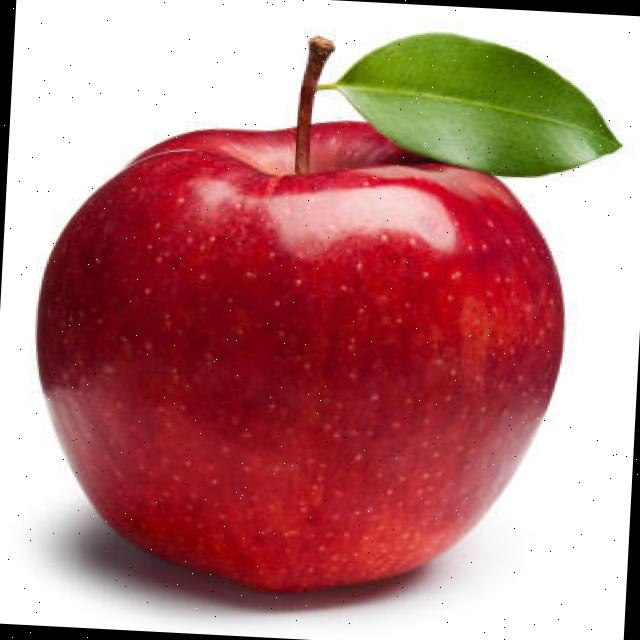Apel: (21, 10, 626, 611)
